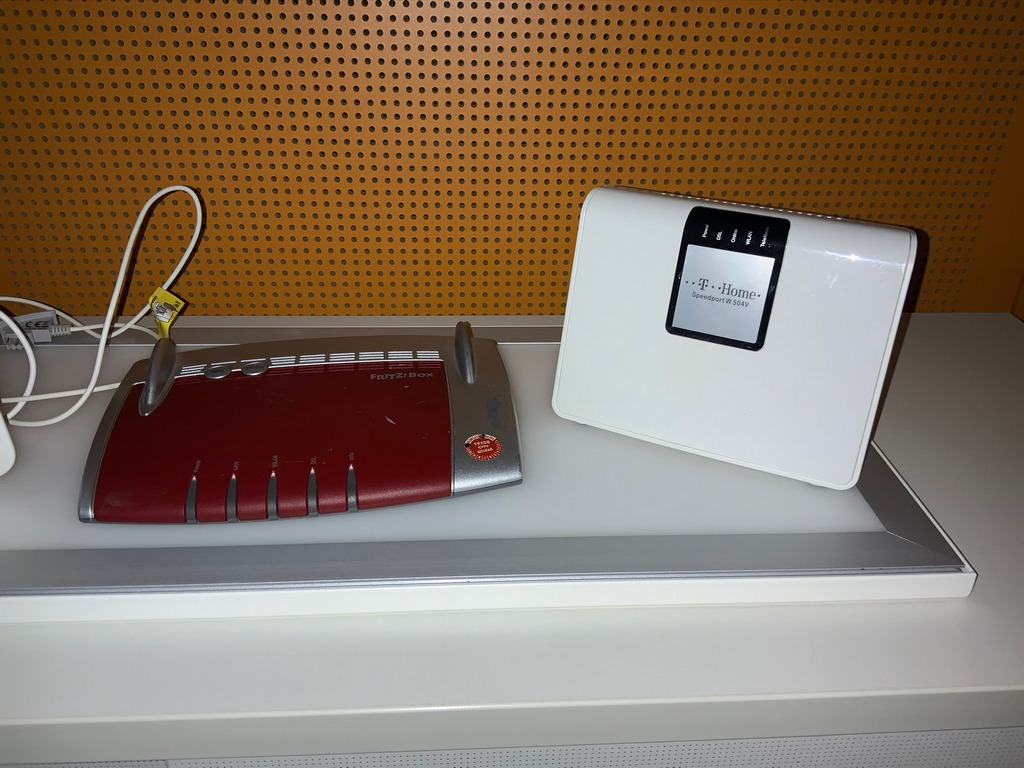Router2: (549, 185, 930, 499)
router3: (82, 325, 533, 532)
